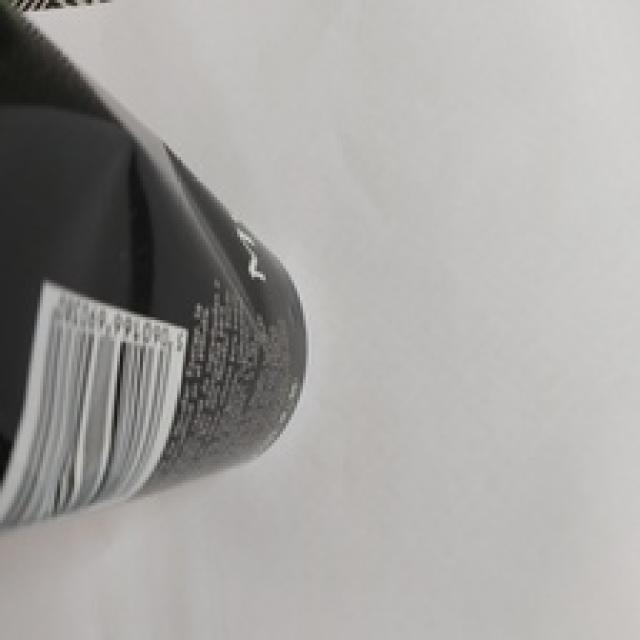recyclable: (0, 0, 311, 524)
